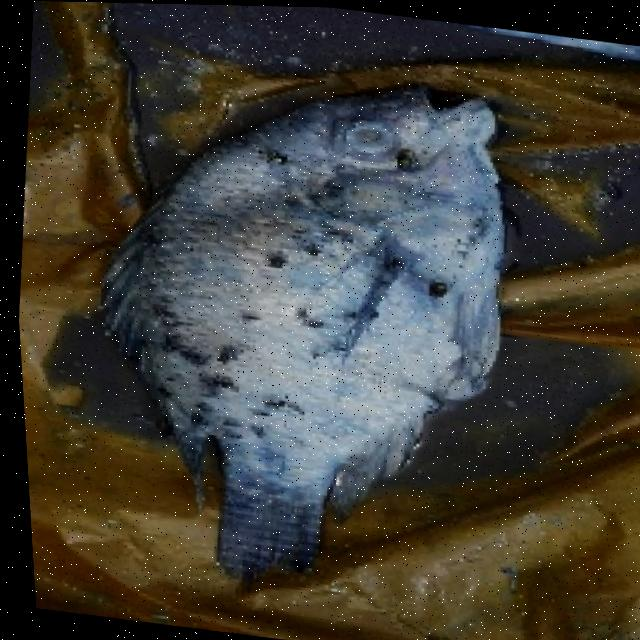Non-Fresh: (68, 34, 561, 587), (326, 98, 410, 170)
